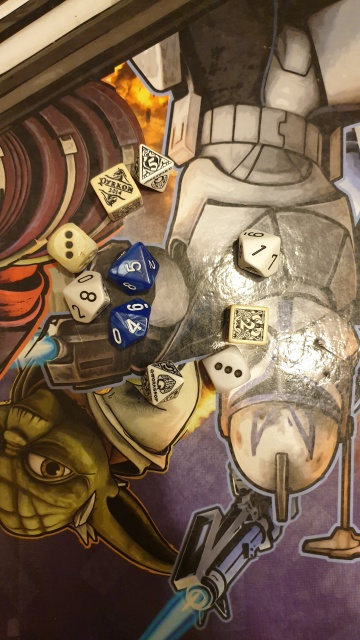d10-1: (229, 225, 283, 285)
d10-4: (103, 297, 156, 348)
d10-5: (106, 242, 162, 294)
d10-8: (61, 273, 110, 325)
d6-3: (41, 221, 99, 270), (201, 343, 250, 395)
d6p-1: (87, 159, 140, 221)
d6p-2: (225, 302, 270, 347)
d8p-5: (130, 144, 177, 196)
d8p-8: (140, 359, 183, 413)
